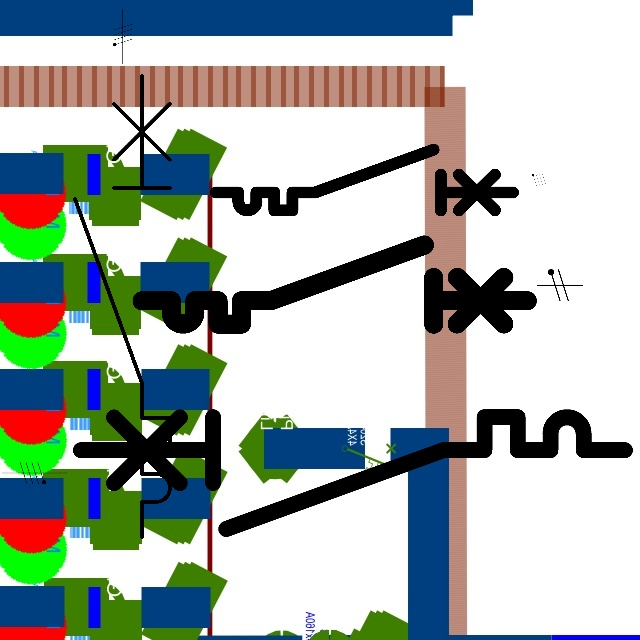interruptor_termomagnetico: (66, 403, 638, 543), (63, 63, 182, 548), (132, 235, 537, 334), (208, 142, 521, 218)
